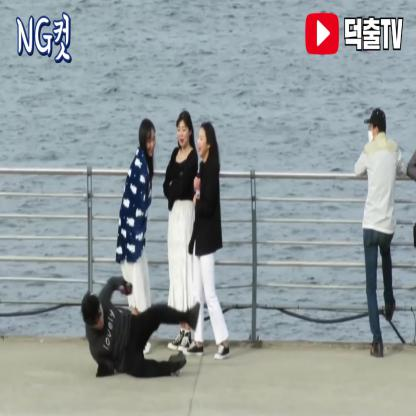Fall_Down: (82, 275, 201, 382)
